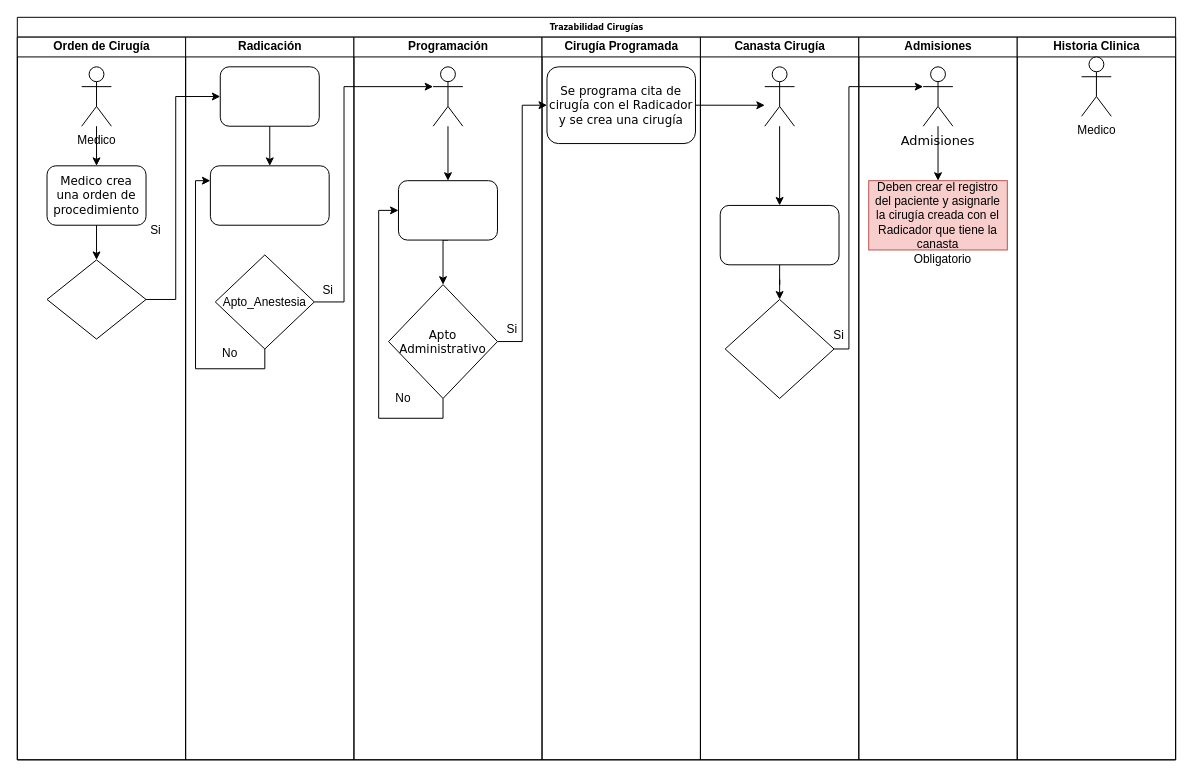
This 1193x777 diagram has some shape labels left out. Here are the shapes that lost their labels. From the top down, the centre of each, then its label:
At pixel 269 96: "Genera Radicador".
At pixel 447 96: "Programación de Cirugías".
At pixel 779 96: "Farmacia".
At pixel 269 195: "Valoración Anestesiólogo".
At pixel 447 210: "Validación de Usuario y Requisitos Administrativos".
At pixel 779 234: "Farmacia Ingresa al Cirugía Creada buscando con el Radicador".
At pixel 96 299: "¿ind_interna?".
At pixel 779 348: "Se Carga la Canasta a la Cirugía".
